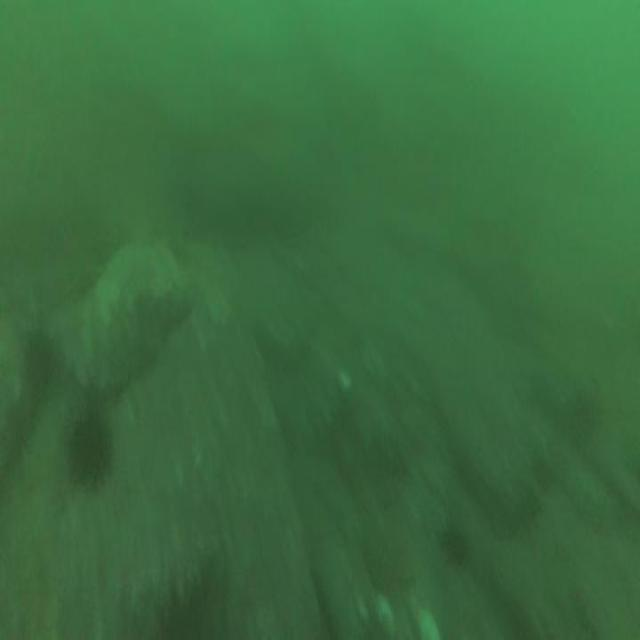echinus: (64, 411, 114, 488), (26, 335, 62, 395)
scallop: (374, 593, 396, 635), (415, 607, 439, 638), (336, 366, 352, 394)
